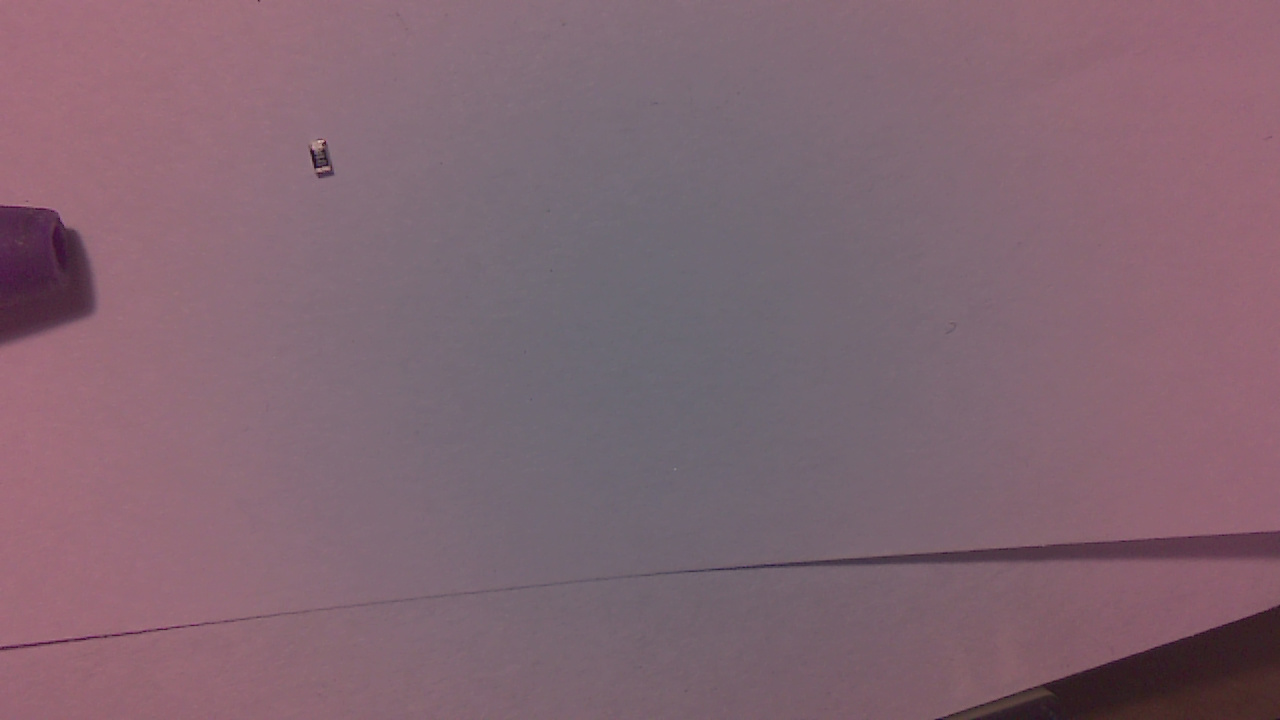Resistor: (310, 142, 342, 187)
